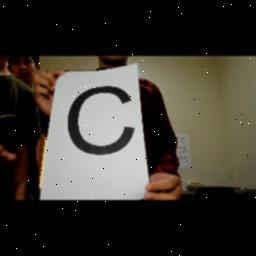c: (64, 84, 136, 162)
